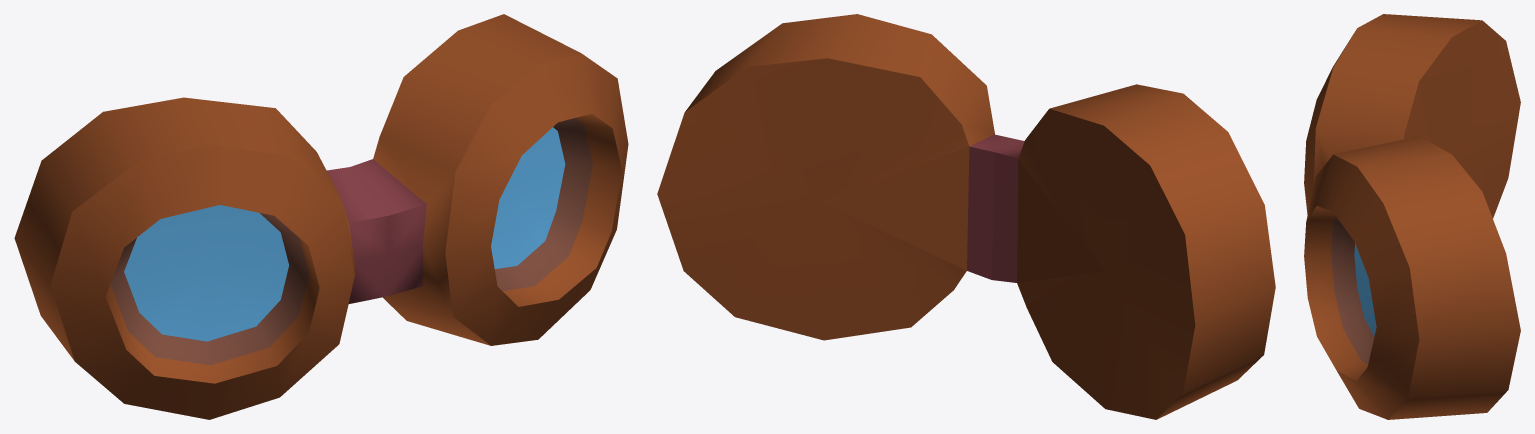
The model's file is Eyewear_3.fbx.
3 views of the same model, side by side, from view 1: azimuth 30°, elevation 25°; view 2: azimuth 150°, elevation 25°; view 3: azimuth 270°, elevation 25° (orthographic). The views are drawn at different scales.
Parts seen in each view (by area): view 1: Eyewear_3; view 2: Eyewear_3; view 3: Eyewear_3.
Boxes of the visible parts, <box> form: Eyewear_3: <box>14,14,628,419</box>; Eyewear_3: <box>657,14,1275,419</box>; Eyewear_3: <box>1304,14,1520,419</box>.
Bounding box in the file's own units: 48.77 × 22.57 × 18.09.
